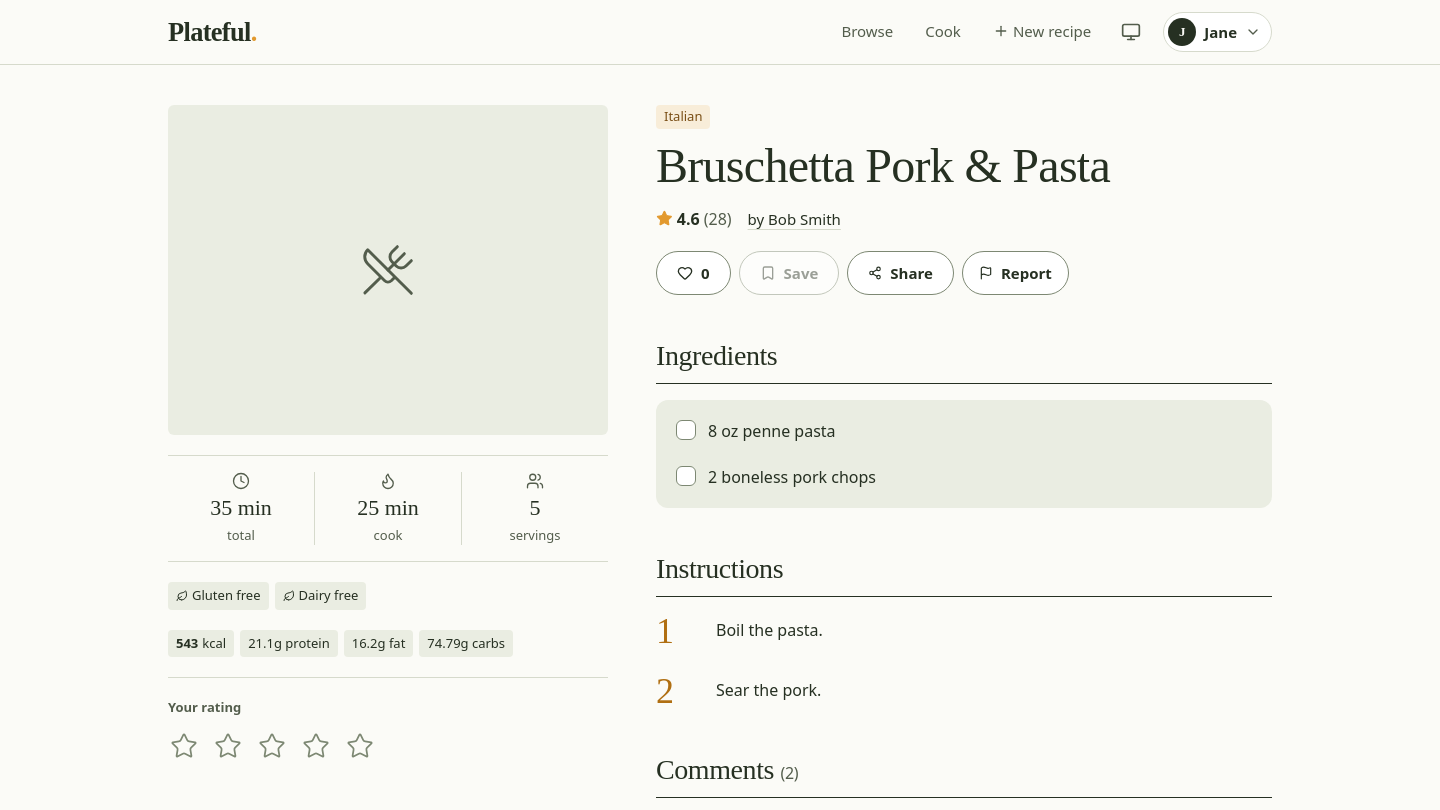
Scenario: a 429 explains the daily limit
Click the button "Report" at (1015,273), box [962,251,1069,295]
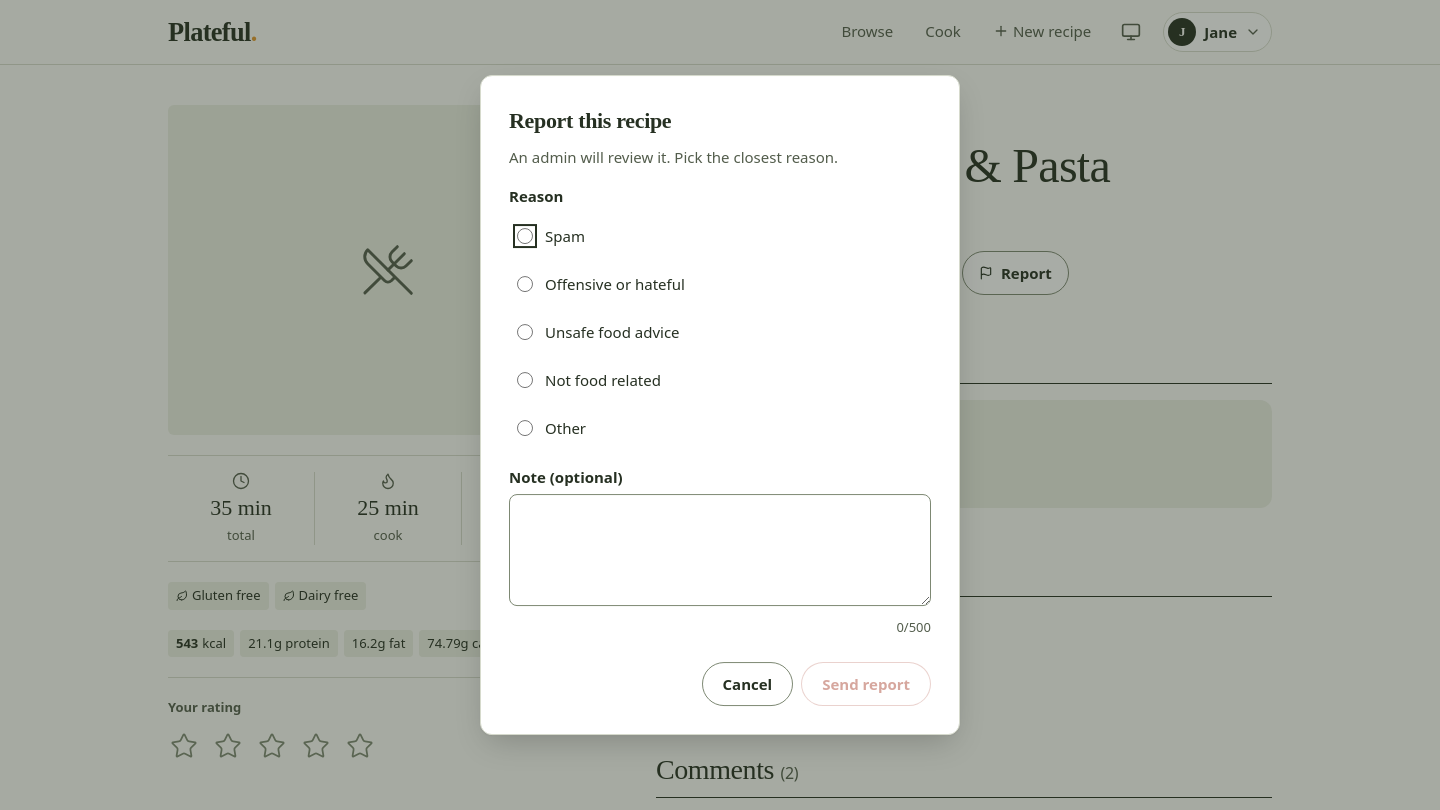
Click the radio button labelled "Spam" at (525,236), box [517,228,533,244]
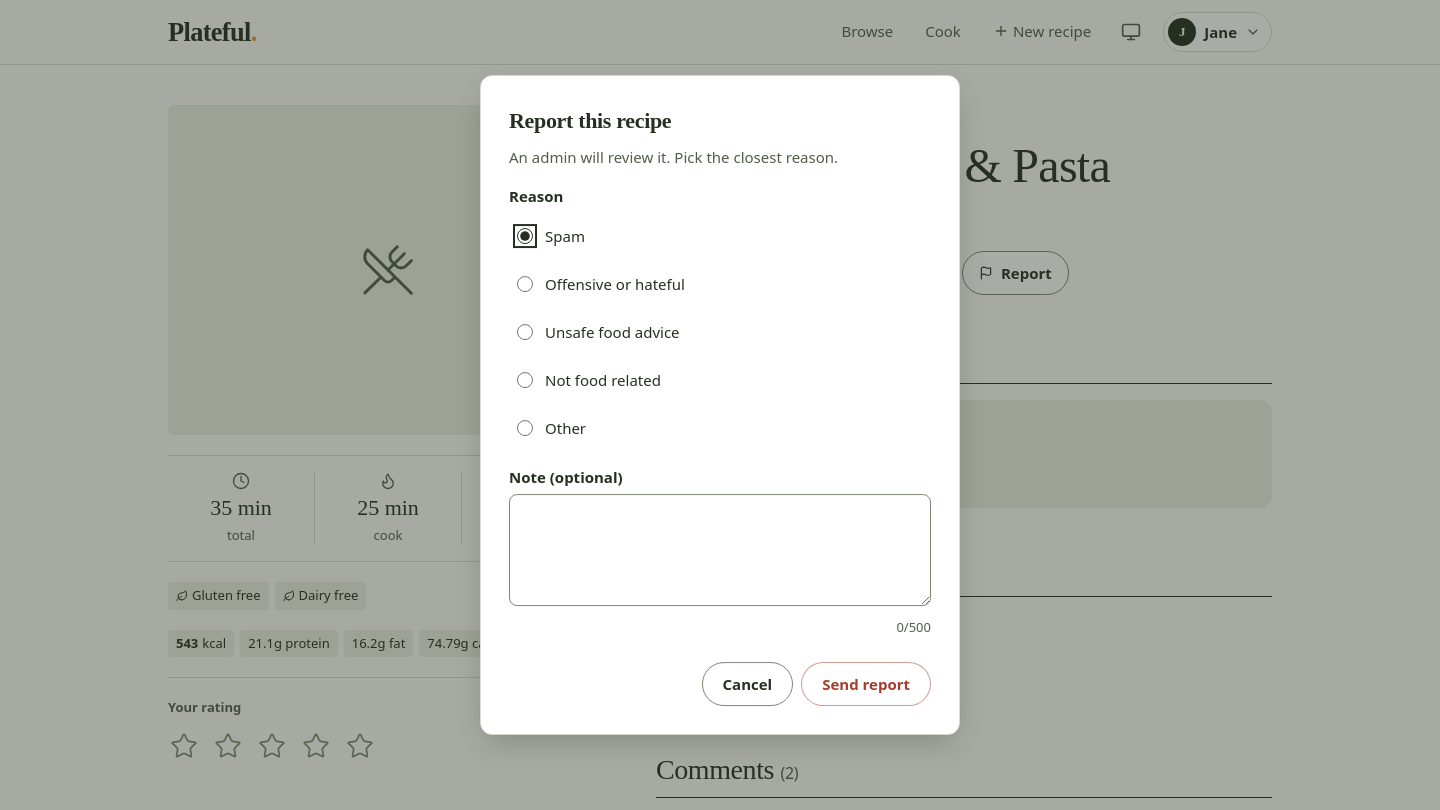
Click the button "Send report" at (866,684), box [801,662,931,706]
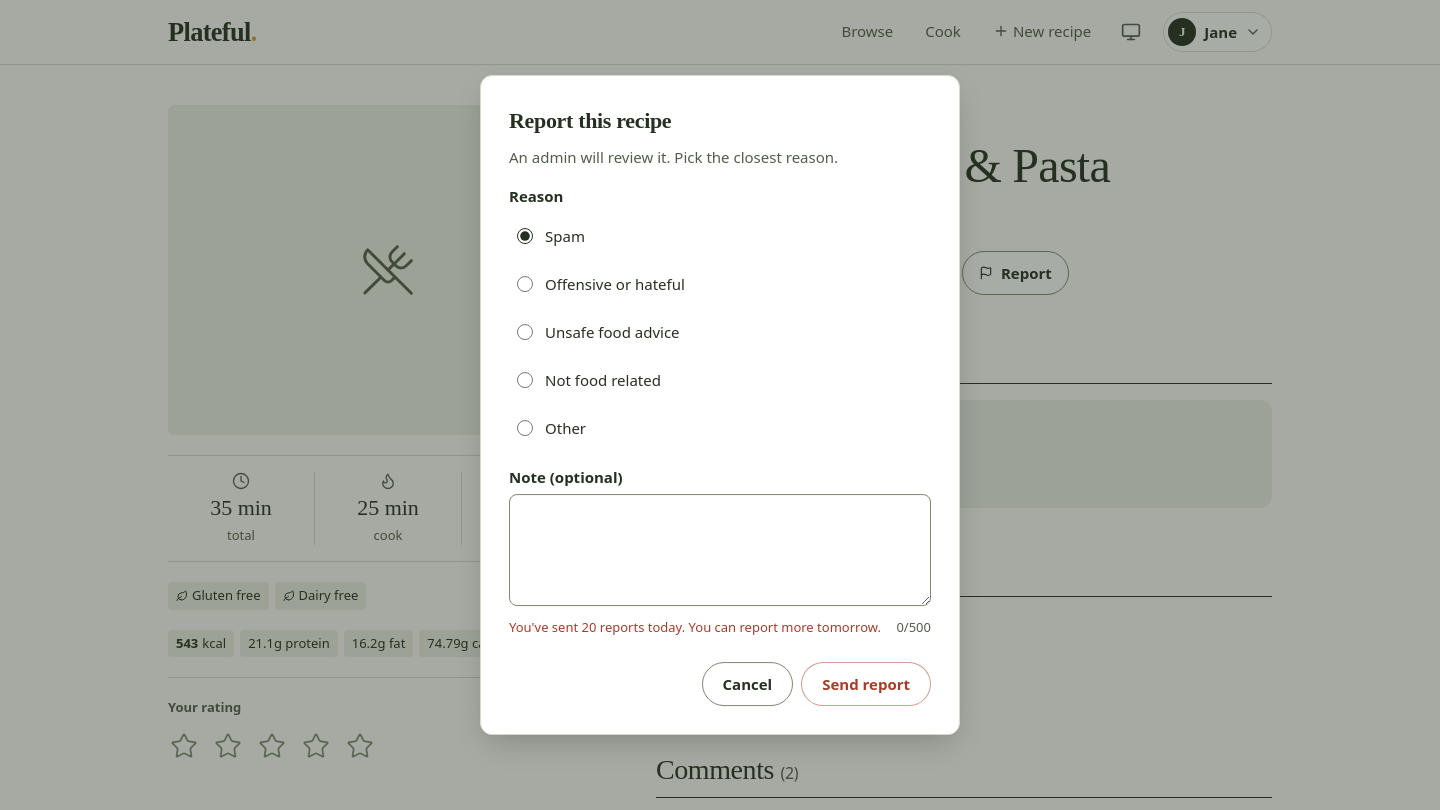
Expected: the text "You've sent 20 reports today. You can report more tomorrow." is shown, [509,618,881,638]
